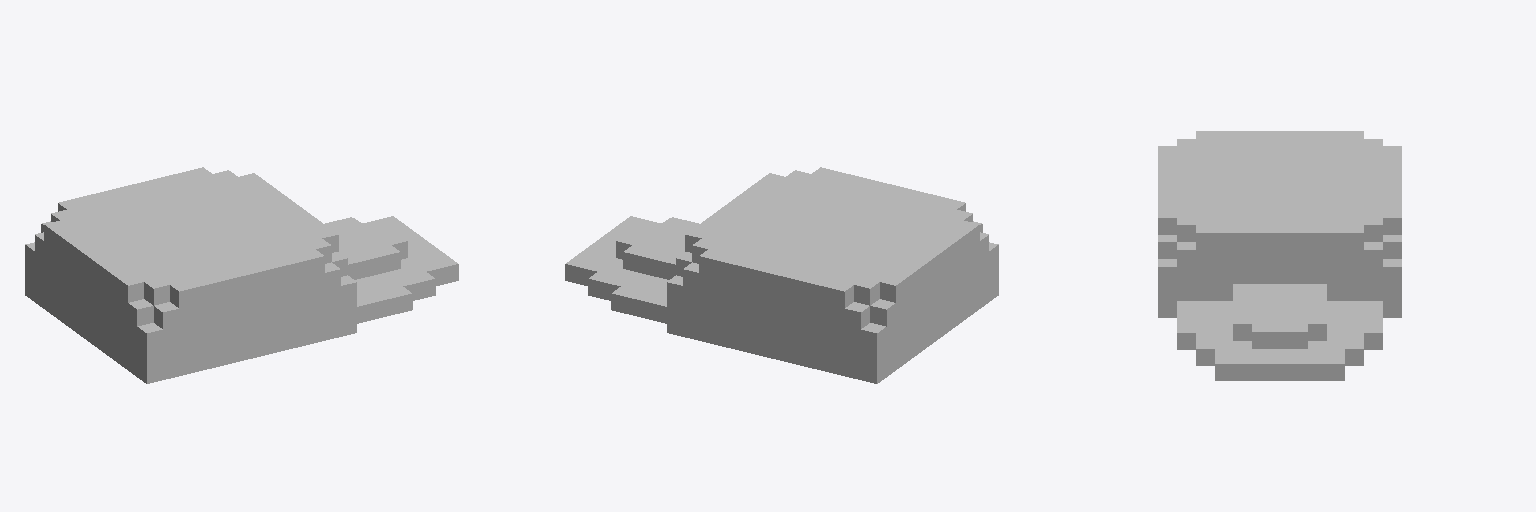
File: hat.obj
3 views of the same model, side by side, from view 1: azimuth 30°, elevation 25°; view 2: azimuth 150°, elevation 25°; view 3: azimuth 270°, elevation 25° (orthographic).
Visible parts, largest first — view 1: object 1; view 2: object 1; view 3: object 1.
Boxes of the visible parts, box(x1,y1,x2,y2) form: object 1: box(25, 167, 458, 383); object 1: box(565, 167, 998, 383); object 1: box(1158, 131, 1401, 380).
Bounding box in the file's own units: 2.1 × 0.5 × 1.3.